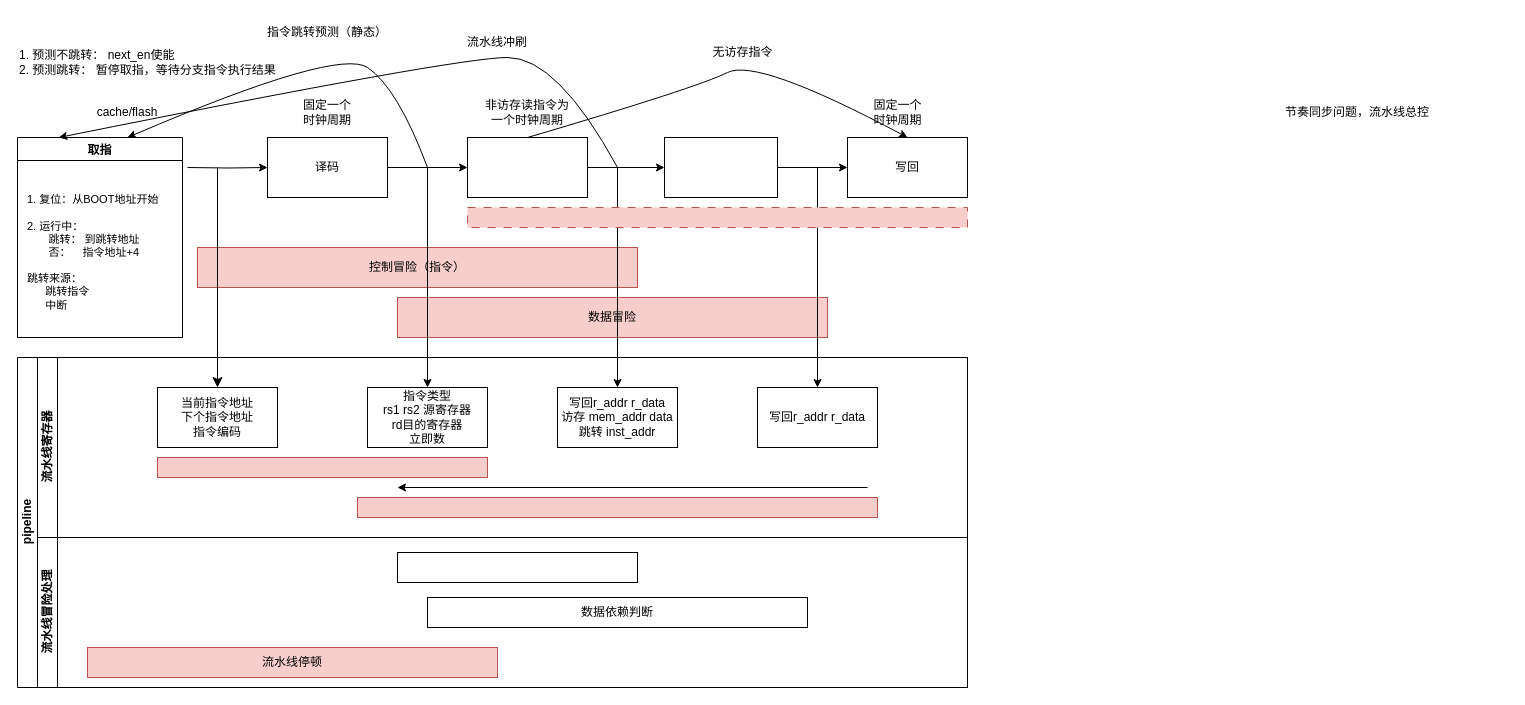
Some shapes in this 1525 by 705 pixel diagram are drawn without their labels. Here are the shapes that lost their labels. From the top down, the centre of each, then its label:
the point at 527,167: 执行
the point at 721,167: 访存
the point at 717,217: 结构冒险
the point at 322,467: 冲刷失效
the point at 617,507: 前向传递
the point at 517,567: 指令冲刷标记
